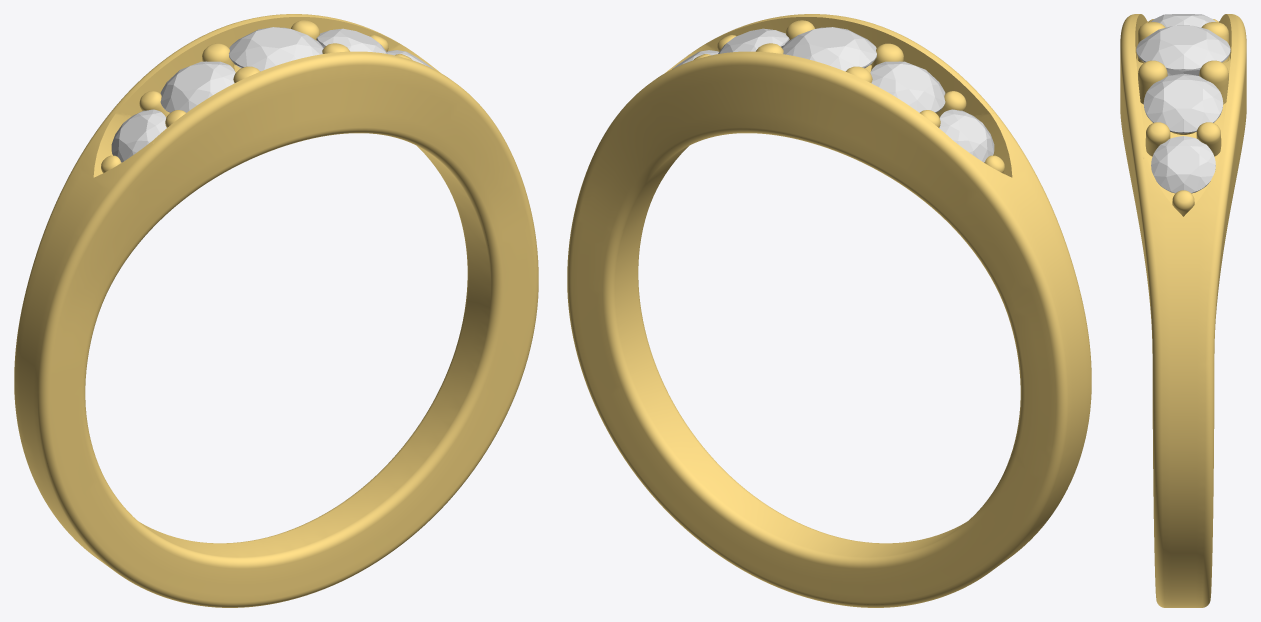
Rendered from MDH_5_Stone_blender.glb.
The picture shows the model from 3 angles, left to right: view 1: azimuth 30°, elevation 25°; view 2: azimuth 150°, elevation 25°; view 3: azimuth 270°, elevation 25°; orthographic projection.
Parts seen in each view (by area): view 1: MDH 5 stone YG for 3d model, MDH 5 stone dia for 3d model.004, MDH 5 stone dia for 3d model.002, MDH 5 stone dia for 3d model.001, MDH 5 stone dia for 3d model.003; view 2: MDH 5 stone YG for 3d model, MDH 5 stone dia for 3d model.004, MDH 5 stone dia for 3d model.002, MDH 5 stone dia for 3d model.001, MDH 5 stone dia for 3d model.003; view 3: MDH 5 stone YG for 3d model, MDH 5 stone dia for 3d model.003, MDH 5 stone dia for 3d model.004, MDH 5 stone dia for 3d model, MDH 5 stone dia for 3d model.002.
Boxes of the visible parts, x1,y1,x2,y2 form: MDH 5 stone YG for 3d model: (14, 14, 538, 607); MDH 5 stone dia for 3d model.004: (229, 27, 323, 71); MDH 5 stone dia for 3d model.002: (160, 61, 235, 112); MDH 5 stone dia for 3d model.001: (111, 109, 166, 162); MDH 5 stone dia for 3d model.003: (316, 28, 387, 53); MDH 5 stone YG for 3d model: (567, 14, 1091, 607); MDH 5 stone dia for 3d model.004: (782, 27, 876, 71); MDH 5 stone dia for 3d model.002: (870, 61, 945, 112); MDH 5 stone dia for 3d model.001: (939, 109, 994, 162); MDH 5 stone dia for 3d model.003: (718, 28, 789, 53); MDH 5 stone YG for 3d model: (1120, 14, 1246, 607); MDH 5 stone dia for 3d model.003: (1143, 73, 1223, 133); MDH 5 stone dia for 3d model.004: (1136, 25, 1230, 75); MDH 5 stone dia for 3d model: (1151, 136, 1215, 193); MDH 5 stone dia for 3d model.002: (1151, 14, 1215, 27).
Bounding box in the file's own units: 19.28 × 20.48 × 4.3.
